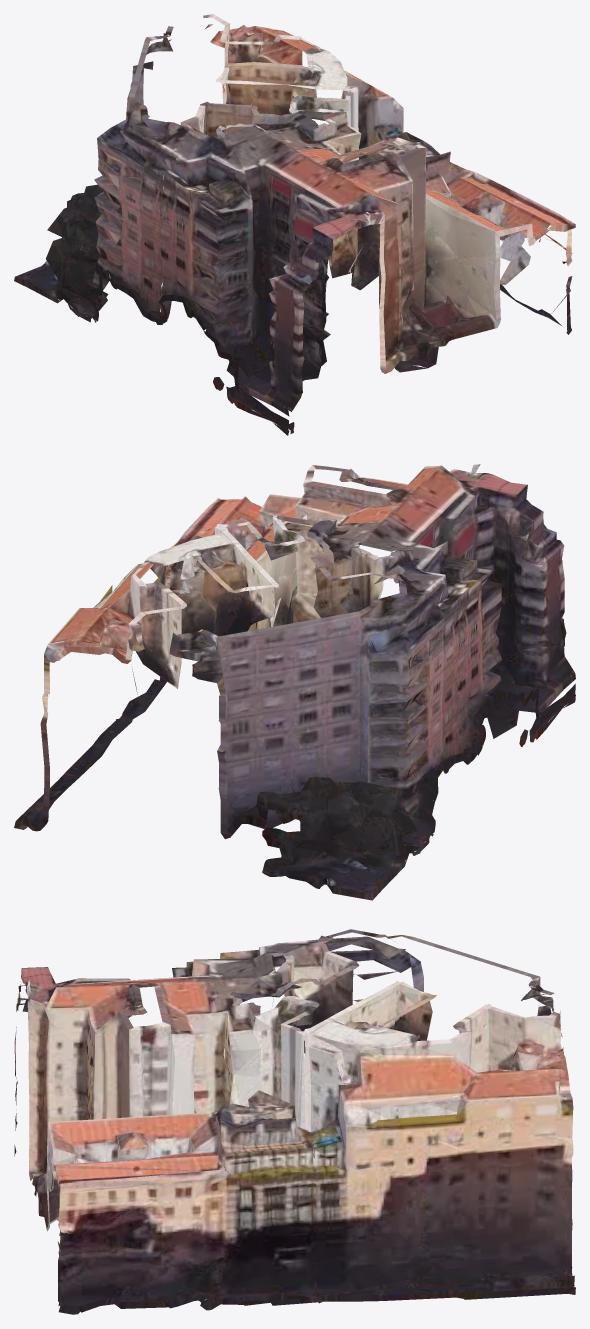
3 renders of one model, top to bottom at view 1: azimuth 30°, elevation 25°; view 2: azimuth 150°, elevation 25°; view 3: azimuth 270°, elevation 25°, orthographic. The views are drawn at different scales.
Parts seen in each view (by area): view 1: Mesh_0; view 2: Mesh_0; view 3: Mesh_0.
Part boxes in pixels (x1,y1,x2,y2): Mesh_0: [14, 14, 575, 435]; Mesh_0: [14, 464, 575, 900]; Mesh_0: [14, 929, 575, 1314].
Size of the model in its own units: 67.17 by 38.32 by 82.53.
Materials: 1 (1 with a texture image).
